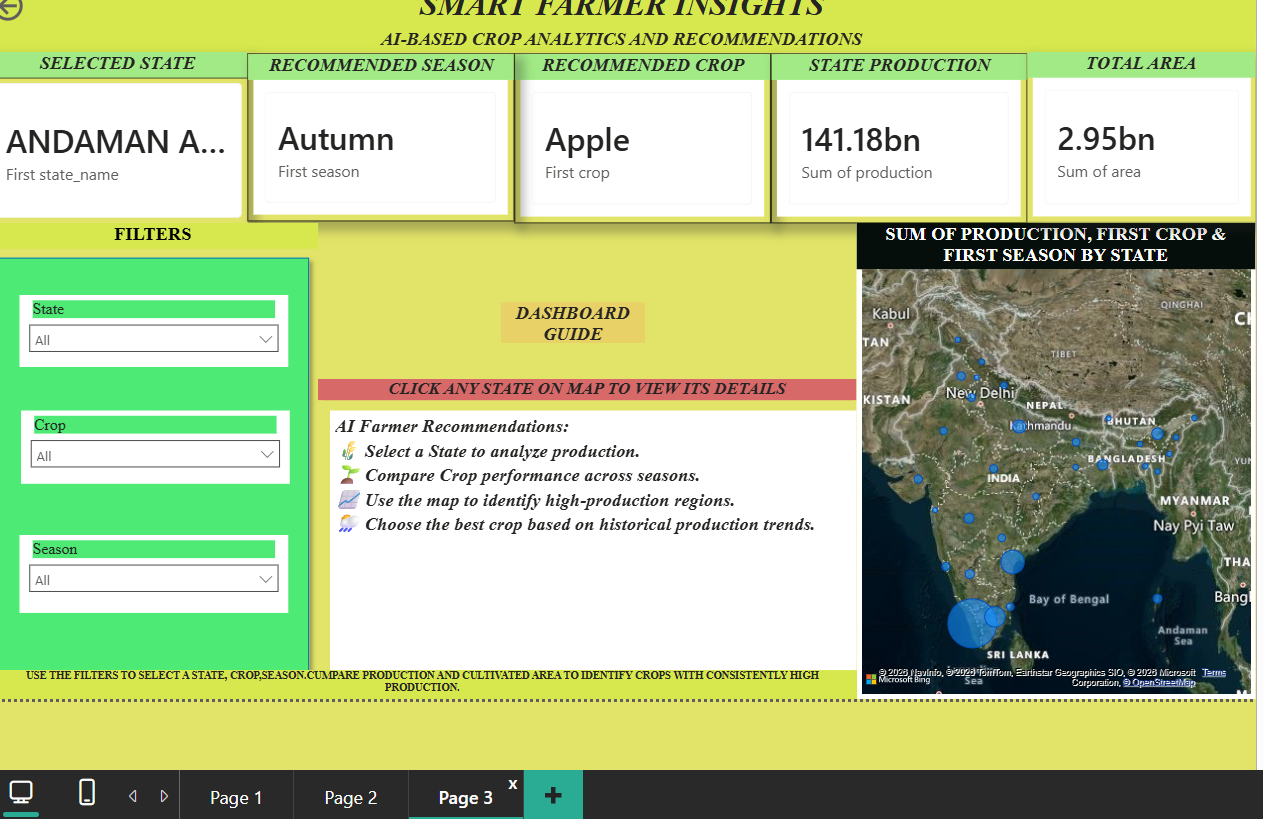

The page's visual inventory and layout, read from the dashboard file:
{"tool":"powerbi","page":{"name":"Page 3","canvas":[1280,720],"ordinal":2},"visuals":[{"type":"textbox","title":"SMART FARMER INSIGHTS ","box":[0,0,1279.5,42.4],"z":0},{"type":"textbox","title":"AI-BASED CROP ANALYTICS AND RECOMMENDATIONS","box":[0,42.4,1279.5,24.2],"z":1000},{"type":"cardVisual","title":"SELECTED STATE","fields":{"Data":["Min(public crop_production.state_name)"]},"box":[0,66.6,262,172.6],"z":2000},{"type":"cardVisual","title":"RECOMMENDED CROP","fields":{"Data":["Min(public crop_production.crop)"]},"box":[531.5,68.1,258.9,171.1],"z":3000},{"type":"cardVisual","title":"STATE PRODUCTION","fields":{"Data":["Sum(public crop_production.production)"]},"box":[790.4,68.1,258.9,171.1],"z":4000},{"type":"cardVisual","title":"RECOMMENDED SEASON","fields":{"Data":["Min(public crop_production.season)"]},"box":[262,68.1,269.5,169.6],"z":5000},{"type":"shape","title":"FILTERS","box":[0,239.2,333.1,480],"z":6000},{"type":"slicer","fields":{"Values":["public crop_production.state_name"]},"box":[31.8,311.9,271,72.7],"z":7000},{"type":"slicer","fields":{"Values":["public crop_production.season"]},"box":[31.8,554.2,271,78.7],"z":8000},{"type":"slicer","fields":{"Values":["public crop_production.crop"]},"box":[33.3,428.5,271,74.2],"z":9000},{"type":"actionButton","box":[0,0,100,40],"z":10000},{"type":"map","title":"SUM OF PRODUCTION, FIRST CROP & FIRST SEASON BY STATE","fields":{"Category":["public crop_production.state_name"],"Size":["Sum(public crop_production.production)"]},"box":[876.7,239.2,402.8,480],"z":11000},{"type":"textbox","title":"USE THE FILTERS TO SELECT A STATE, CROP,SEASON.CUMPARE PRODUCTION AND CULTIVATED AREA TO IDENTIFY CROPS WITH CONSISTENTLY HIGH PRODUCTION.","box":[0,690.5,876.7,28.8],"z":12000},{"type":"textbox","title":"CLICK ANY STATE ON MAP TO VIEW ITS DETAILS","box":[333.1,396.7,543.6,21.2],"z":13000},{"type":"textbox","title":"DASHBOARD GUIDE","box":[517.9,319.5,145.4,40.9],"z":14000},{"type":"textbox","box":[345.2,428.5,531.5,262],"z":15000},{"type":"cardVisual","title":"TOTAL AREA","fields":{"Data":["Sum(public crop_production.area)"]},"box":[1049.3,66.6,230.2,171.1],"z":16000}]}

Visuals, with their boxes on the page's 1280x720 design canvas (x1, y1, x2, y2). These are canvas units, not pixel positions in the 1263x819 screenshot, which may show the page scaled, cropped or inside an application window:
"SMART FARMER INSIGHTS " textbox: detection(0, 0, 1280, 42)
"AI-BASED CROP ANALYTICS AND RECOMMENDATIONS" textbox: detection(0, 42, 1280, 67)
"SELECTED STATE" cardVisual: detection(0, 67, 262, 239)
"RECOMMENDED CROP" cardVisual: detection(532, 68, 790, 239)
"STATE PRODUCTION" cardVisual: detection(790, 68, 1049, 239)
"RECOMMENDED SEASON" cardVisual: detection(262, 68, 532, 238)
"FILTERS" shape: detection(0, 239, 333, 719)
slicer - public crop_production.state_name: detection(32, 312, 303, 385)
slicer - public crop_production.season: detection(32, 554, 303, 633)
slicer - public crop_production.crop: detection(33, 428, 304, 503)
actionButton: detection(0, 0, 100, 40)
"SUM OF PRODUCTION, FIRST CROP & FIRST SEASON BY STATE" map: detection(877, 239, 1280, 719)
"USE THE FILTERS TO SELECT A STATE, CROP,SEASON.CUMPARE PRODUCTION AND CULTIVATED AREA TO IDENTIFY CROPS WITH CONSISTENTLY HIGH PRODUCTION." textbox: detection(0, 690, 877, 719)
"CLICK ANY STATE ON MAP TO VIEW ITS DETAILS" textbox: detection(333, 397, 877, 418)
"DASHBOARD GUIDE" textbox: detection(518, 320, 663, 360)
textbox: detection(345, 428, 877, 690)
"TOTAL AREA" cardVisual: detection(1049, 67, 1280, 238)
